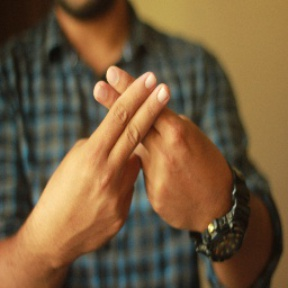F: (77, 47, 192, 189)
